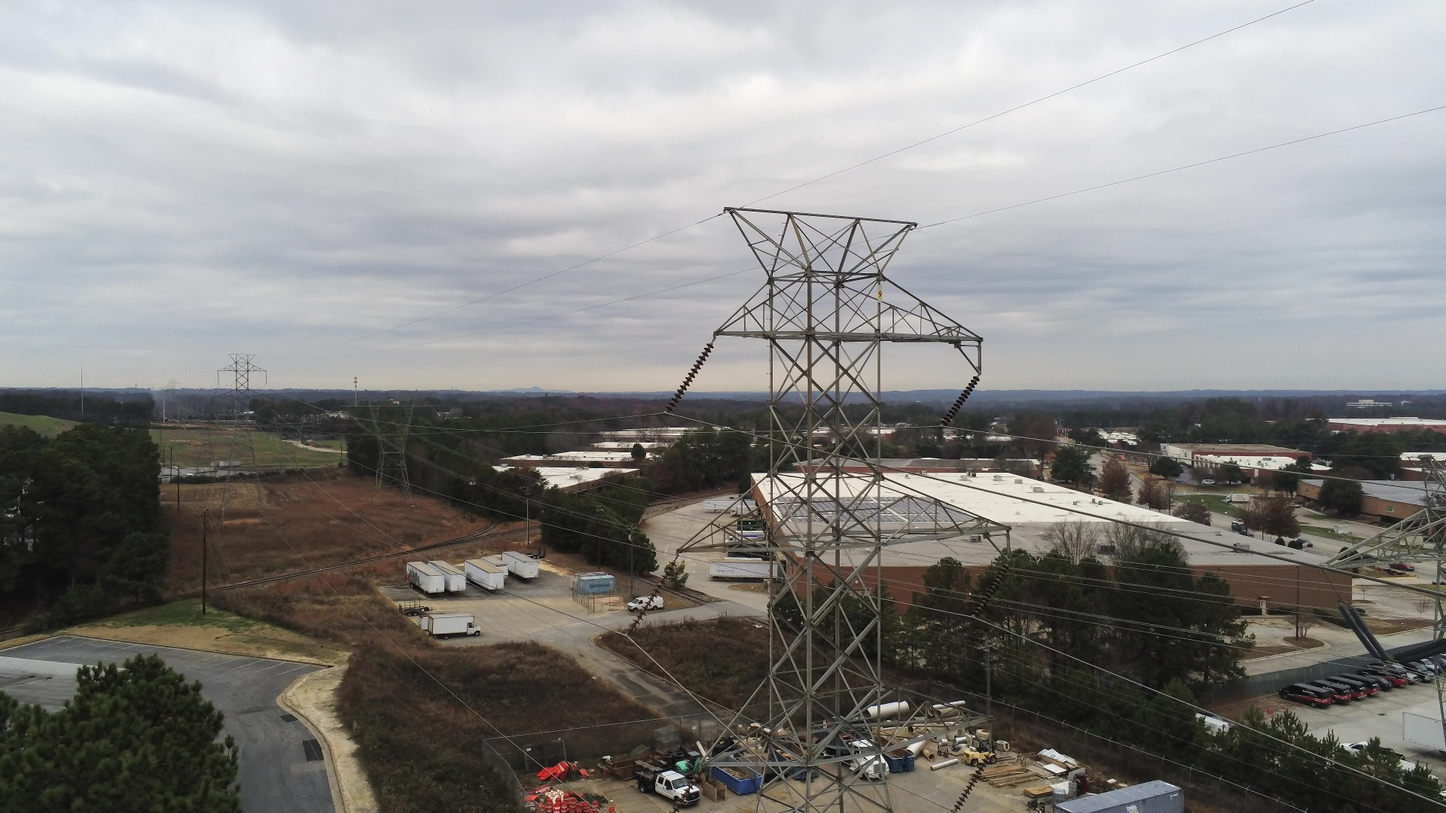insulator: (664, 341, 715, 413), (628, 560, 677, 631), (1336, 601, 1391, 663), (948, 753, 993, 813), (940, 374, 981, 427), (971, 562, 1010, 617), (1391, 635, 1446, 667)
